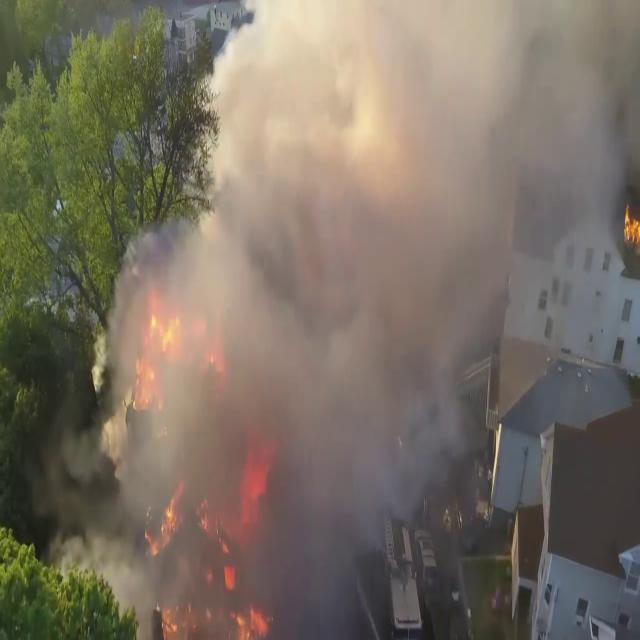Fire: (622, 198, 640, 258)
Smoke: (104, 1, 632, 619)
